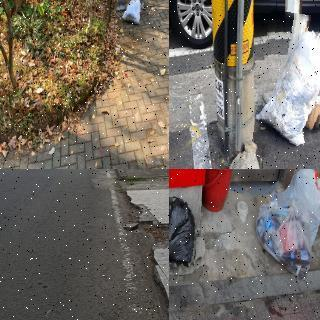Garbage: (256, 12, 320, 149), (255, 192, 311, 282), (288, 169, 320, 254), (169, 196, 200, 268), (117, 0, 143, 27)
